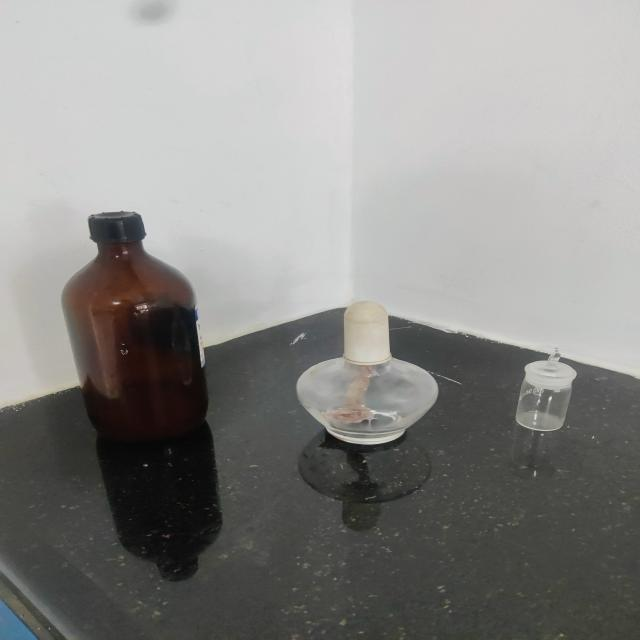Nessler_Reagent_Bottle: (33, 186, 239, 469)
Spirit_Lamp: (271, 280, 466, 471)
Weighing_Bottle: (497, 304, 613, 467)
